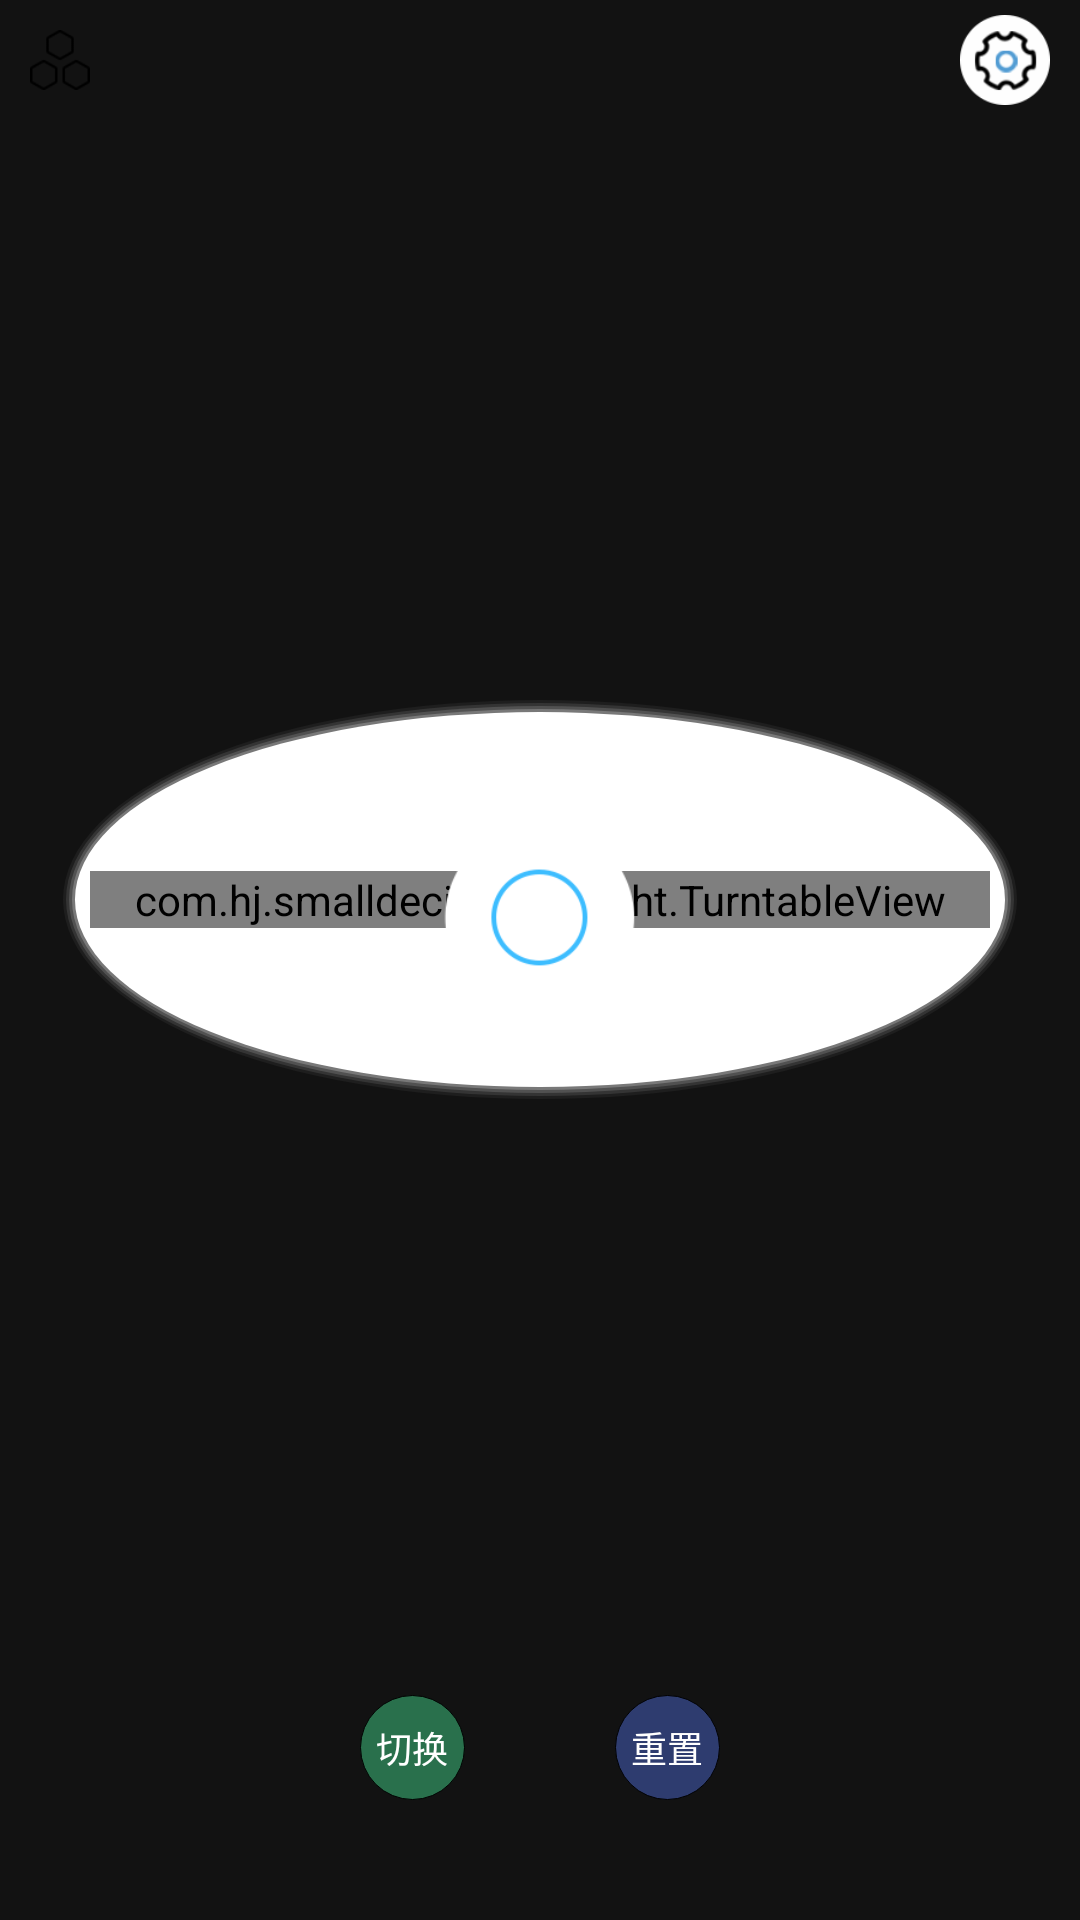

Screen size 1080×1920. Icon name, then its box in pixels as (x1, y1, x2, y2):
setting: (960, 15, 1050, 105)
